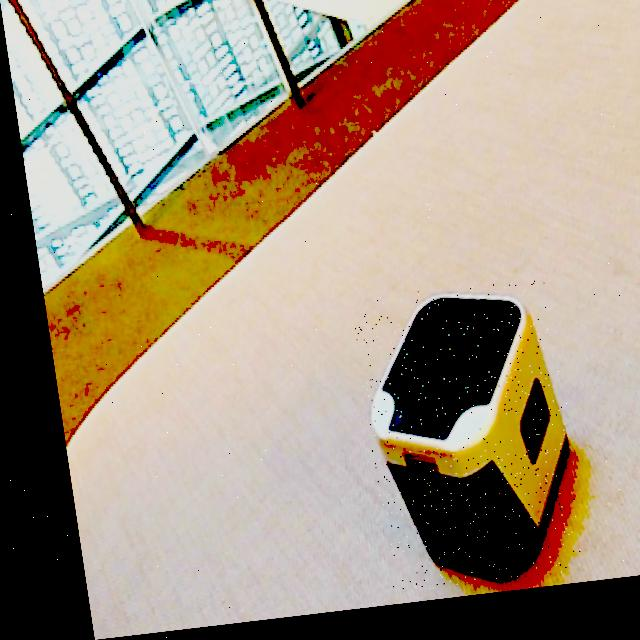adapter: (339, 289, 567, 601)
